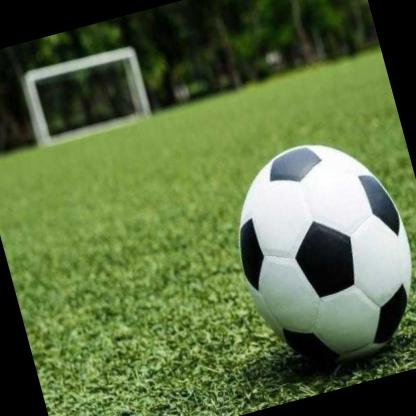ball: (213, 124, 416, 383)
